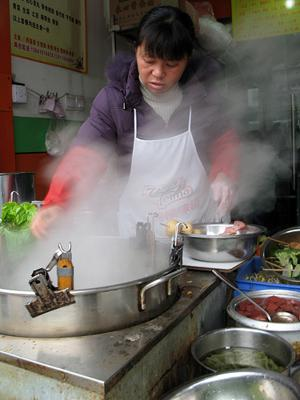person: (29, 6, 250, 246)
